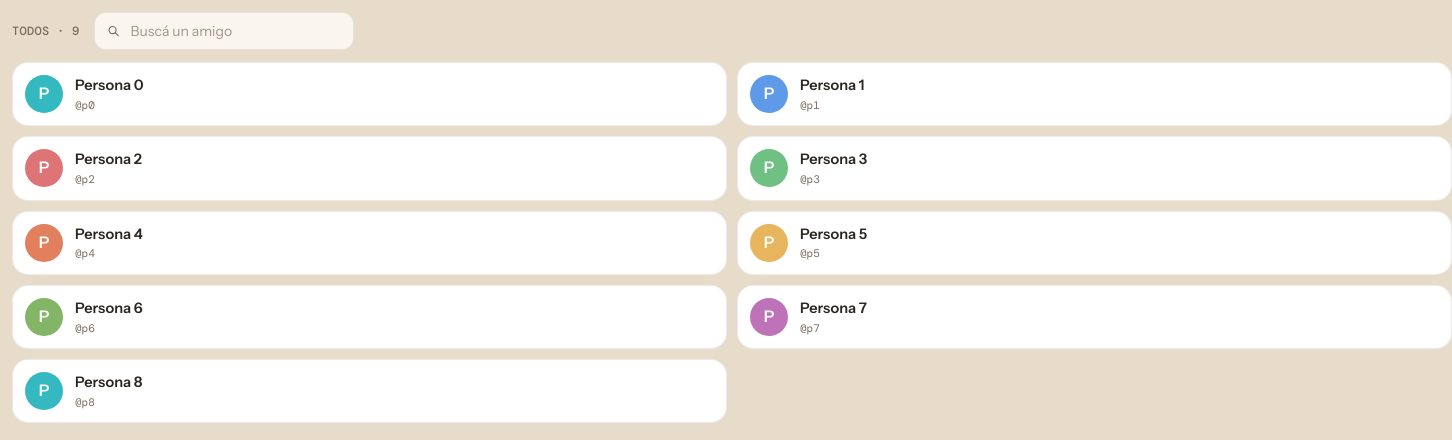
Test: FriendList › says so rather than showing an empty grid when nothing matches
Step 1. Type "zzz" into the search field labelled "Buscá un amigo" → [224, 31], box 94,12 -> 354,50
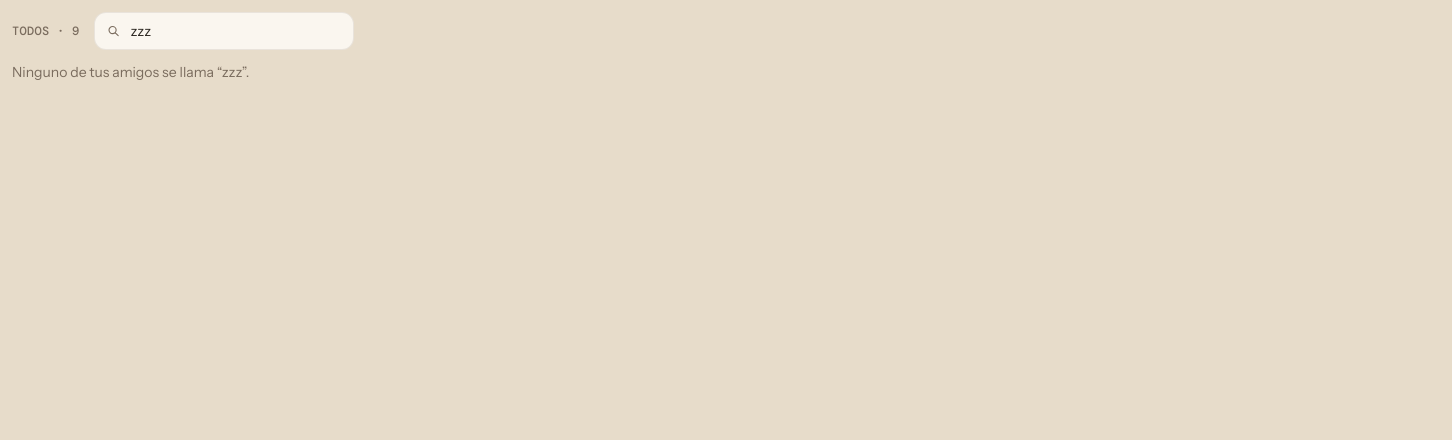
Now the text "Ninguno de tus amigos se llama “zzz”." is shown, box 12,63 -> 249,81
